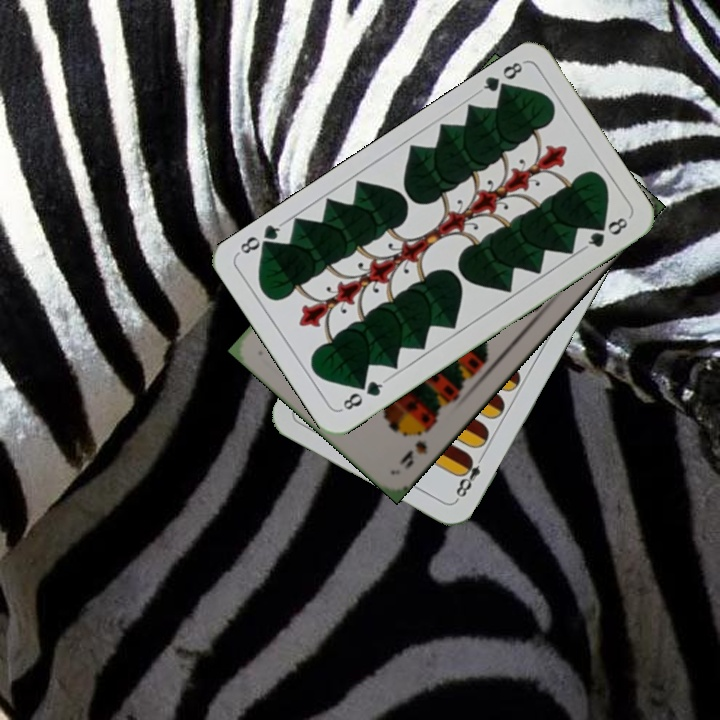E8: (451, 449, 488, 503)
G8: (474, 57, 528, 99), (336, 375, 389, 413)
S9: (395, 421, 435, 472)
